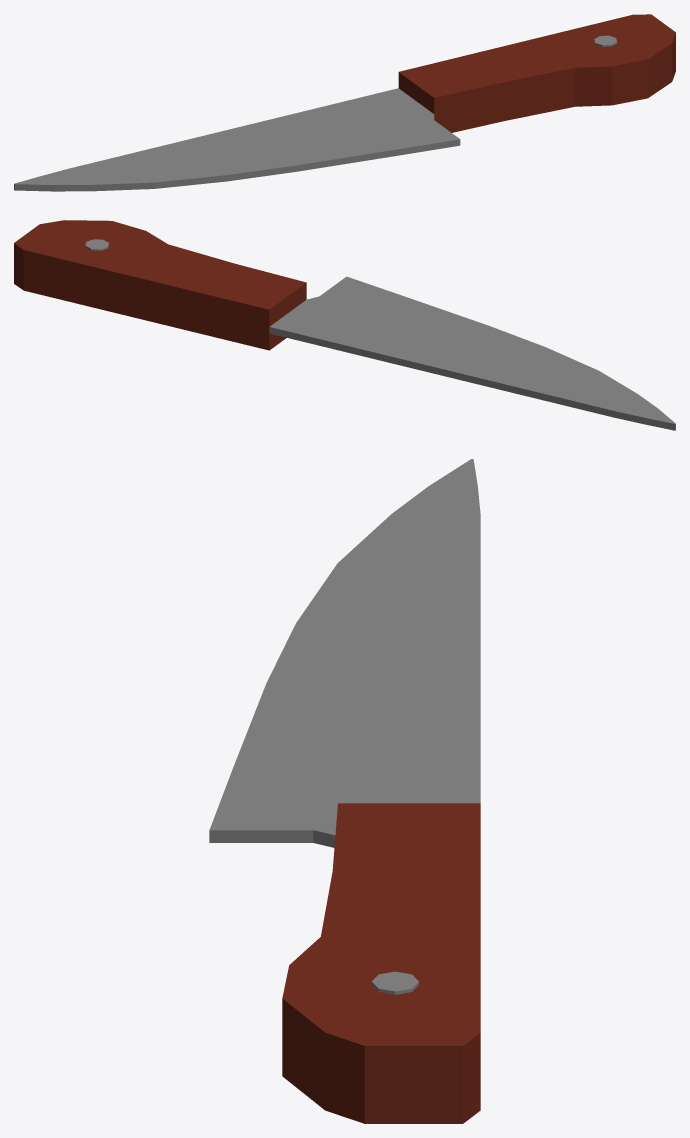
The model's file is knife.fbx.
3 views of the same model, one above another, from view 1: azimuth 30°, elevation 25°; view 2: azimuth 150°, elevation 25°; view 3: azimuth 270°, elevation 25° (orthographic). The views are drawn at different scales.
Parts seen in each view (by area): view 1: Cube; view 2: Cube; view 3: Cube.
Boxes of the visible parts, bbox=[...] form: Cube: bbox=[14, 14, 675, 191]; Cube: bbox=[14, 220, 675, 430]; Cube: bbox=[209, 459, 480, 1123].
Size of the model in its own units: 2056 by 132 by 380.
